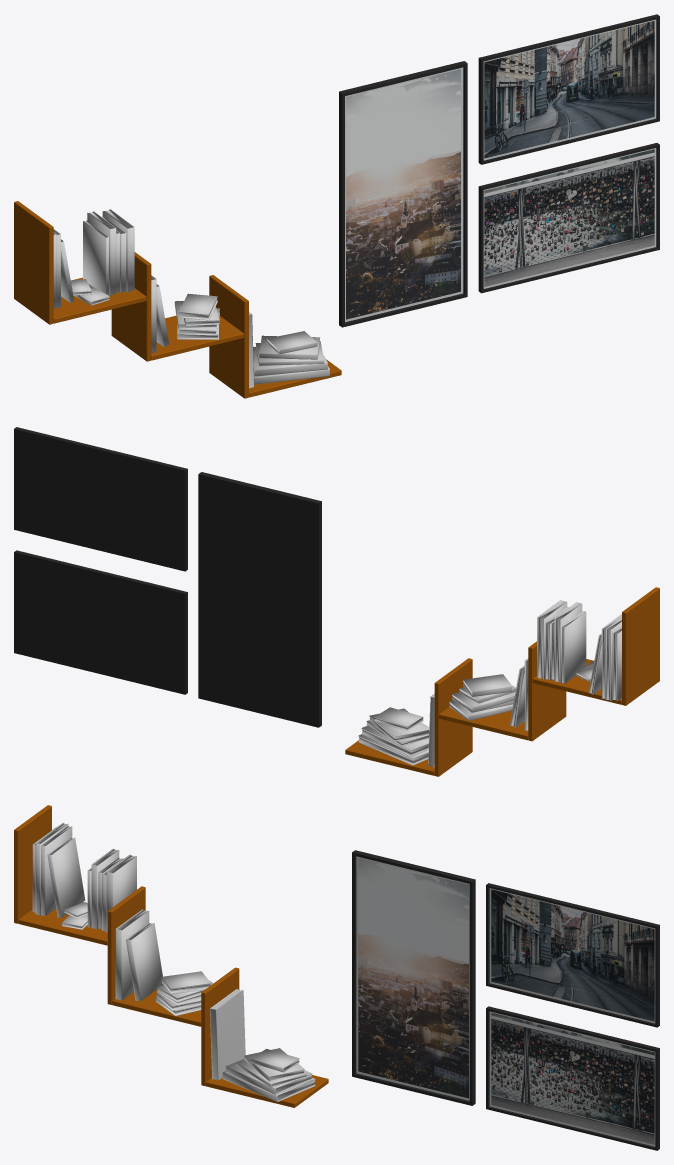
The model's file is SimpleBookShelf.fbx.
The picture shows the model from 3 angles, top to bottom: view 1: azimuth 30°, elevation 25°; view 2: azimuth 150°, elevation 25°; view 3: azimuth 330°, elevation 25°; orthographic projection. The views are drawn at different scales.
Parts seen in each view (by area): view 1: Picture, Picture.001, Picture.002, Cube.004, Object030, Object010, Object025, Object011, Object009, Object024, Object014, Object029 (+1 smaller); view 2: Picture, Picture.002, Picture.001, Cube.004, Object030, Object011, Object025, Object010, Object009, Object024, Object023, Object018 (+5 smaller); view 3: Picture, Picture.002, Picture.001, Cube.004, Object004, Object012, Object008, Object017, Object010, Object013, Object011, Object025 (+5 smaller).
Part boxes in pixels (box(x1,y1,x2,y2)): Picture: box(339, 61, 467, 327); Picture.001: box(478, 14, 659, 164); Picture.002: box(478, 143, 659, 293); Cube.004: box(14, 201, 341, 398); Object030: box(83, 220, 108, 295); Object010: box(102, 209, 134, 291); Object025: box(87, 211, 116, 295); Object011: box(178, 293, 217, 320); Object009: box(267, 331, 317, 354); Object024: box(253, 347, 327, 376); Object014: box(259, 335, 320, 359); Object029: box(254, 366, 329, 384); Picture: box(198, 472, 321, 727); Picture.002: box(14, 550, 187, 694); Picture.001: box(14, 427, 187, 571); Cube.004: box(345, 587, 659, 776); Object030: box(561, 611, 586, 683); Object011: box(463, 674, 512, 696); Object025: box(554, 602, 582, 682); Object010: box(537, 600, 567, 679); Object009: box(374, 707, 423, 730); Object024: box(361, 725, 428, 756); Object023: box(612, 626, 621, 701); Object018: box(605, 617, 621, 701); Picture: box(352, 850, 475, 1105); Picture.002: box(486, 1006, 659, 1150); Picture.001: box(486, 883, 659, 1027); Cube.004: box(14, 805, 328, 1107); Object004: box(210, 989, 245, 1080); Object012: box(126, 923, 163, 1000); Object008: box(47, 838, 85, 917); Object017: box(115, 909, 149, 1000); Object010: box(106, 854, 136, 932); Object013: box(41, 826, 72, 915); Object011: box(161, 971, 210, 994); Object025: box(91, 848, 119, 929).
Size of the model in its own units: 276 by 104 by 31.64.
